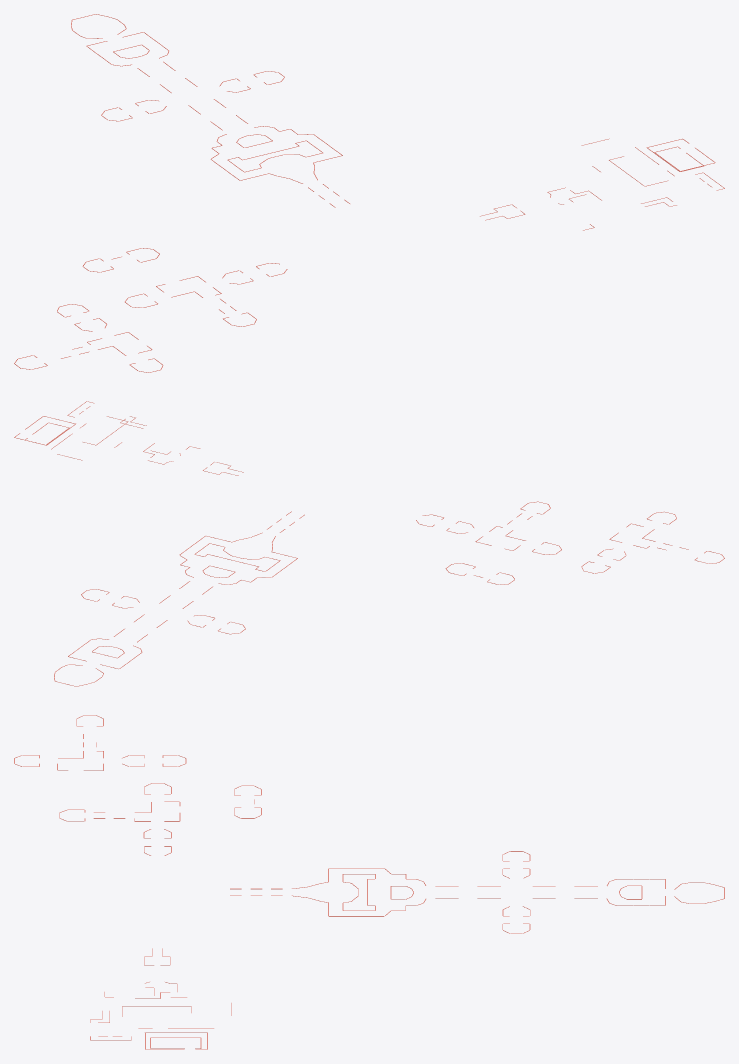
The model's file is BarandaAltaAla.fbx.
The picture shows the model from 3 angles, top to bottom: view 1: azimuth 30°, elevation 25°; view 2: azimuth 150°, elevation 25°; view 3: azimuth 270°, elevation 25°; orthographic projection. The views are drawn at different scales.
Parts seen in each view (by area): view 1: Baranda_Alta_AlaCentral, Baranda_Alta_AlaIzquierda, Baranda_Alta_AlaDerecha; view 2: Baranda_Alta_AlaCentral, Baranda_Alta_AlaIzquierda, Baranda_Alta_AlaDerecha; view 3: Baranda_Alta_AlaCentral, Baranda_Alta_AlaIzquierda, Baranda_Alta_AlaDerecha.
Boxes of the visible parts, bbox=[...] form: Baranda_Alta_AlaCentral: bbox=[71, 14, 349, 207]; Baranda_Alta_AlaIzquierda: bbox=[14, 248, 287, 372]; Baranda_Alta_AlaDerecha: bbox=[480, 138, 724, 230]; Baranda_Alta_AlaCentral: bbox=[54, 511, 304, 686]; Baranda_Alta_AlaIzquierda: bbox=[416, 501, 724, 584]; Baranda_Alta_AlaDerecha: bbox=[14, 401, 243, 475]; Baranda_Alta_AlaCentral: bbox=[230, 851, 724, 933]; Baranda_Alta_AlaIzquierda: bbox=[14, 715, 261, 855]; Baranda_Alta_AlaDerecha: bbox=[90, 948, 231, 1049].
Size of the model in its own units: 515 by 13.73 by 457.
